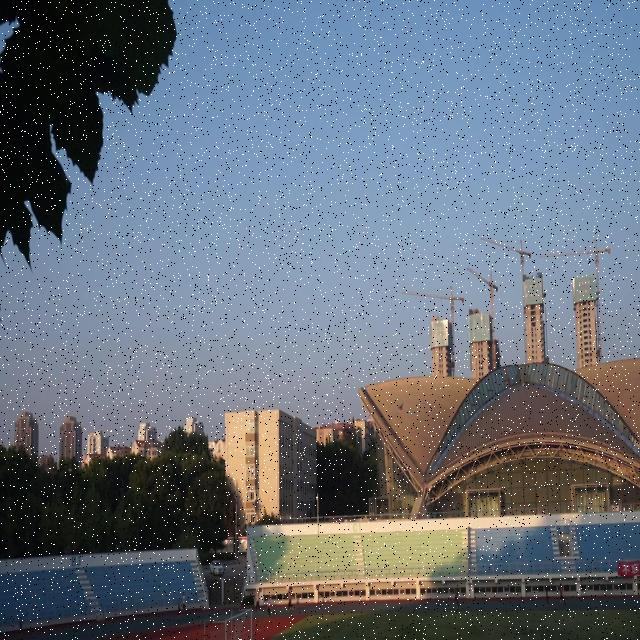UAV: (398, 402, 404, 412)
